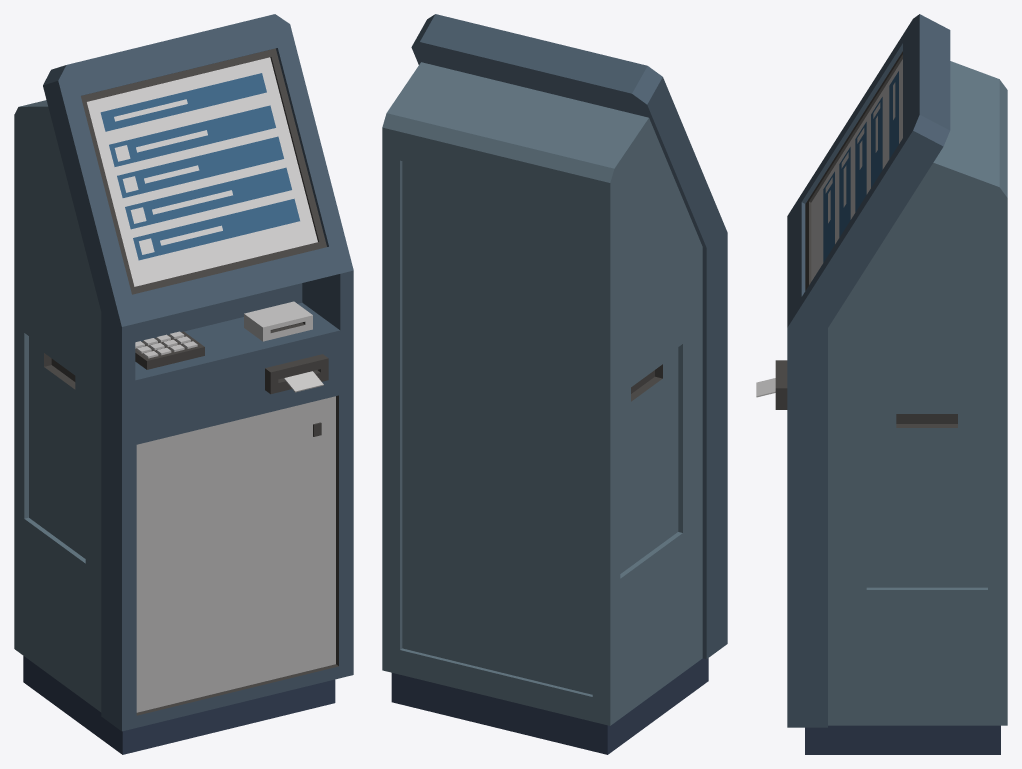
Rendered from self-check-in-kiosk-3fe1c1.glb.
The picture shows the model from 3 angles, left to right: view 1: azimuth 30°, elevation 25°; view 2: azimuth 150°, elevation 25°; view 3: azimuth 270°, elevation 25°; orthographic projection. The views are drawn at different scales.
Parts seen in each view (by area): view 1: kiosk-body, service-door-mesh; view 2: kiosk-body; view 3: kiosk-body.
Part boxes in pixels (x1,y1,x2,y2): kiosk-body: (14,14,353,754); service-door-mesh: (136,396,335,712); kiosk-body: (382,14,727,754); kiosk-body: (775,14,1007,754).
Bounding box in the file's own units: 0.6 × 1.6 × 0.5704.
